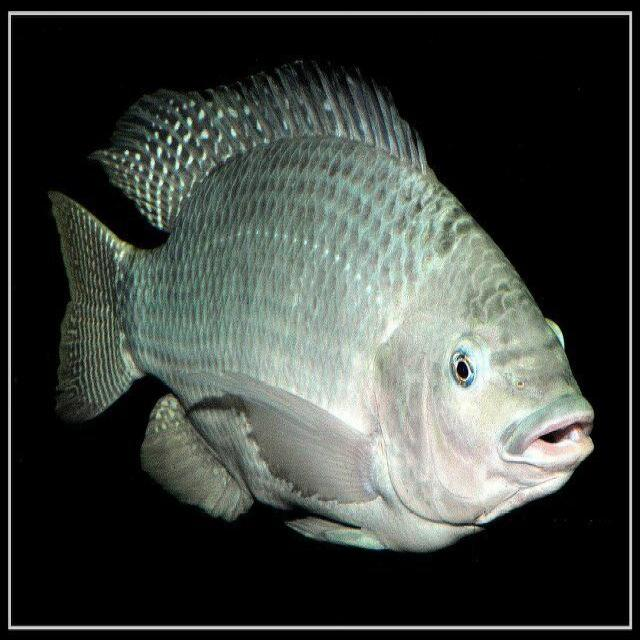ikan: (34, 55, 604, 578)
